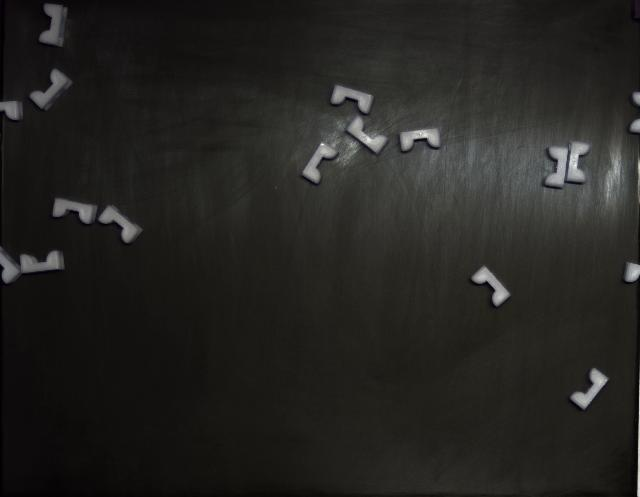third_side: (30, 69, 72, 110), (99, 205, 142, 244), (471, 266, 510, 308), (570, 369, 609, 410), (346, 116, 388, 154), (301, 142, 338, 184), (330, 85, 374, 114), (39, 4, 68, 46), (52, 199, 98, 225), (20, 250, 65, 274), (544, 146, 569, 189), (566, 141, 590, 184), (400, 129, 441, 151)
